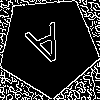A: (23, 21, 72, 77)
